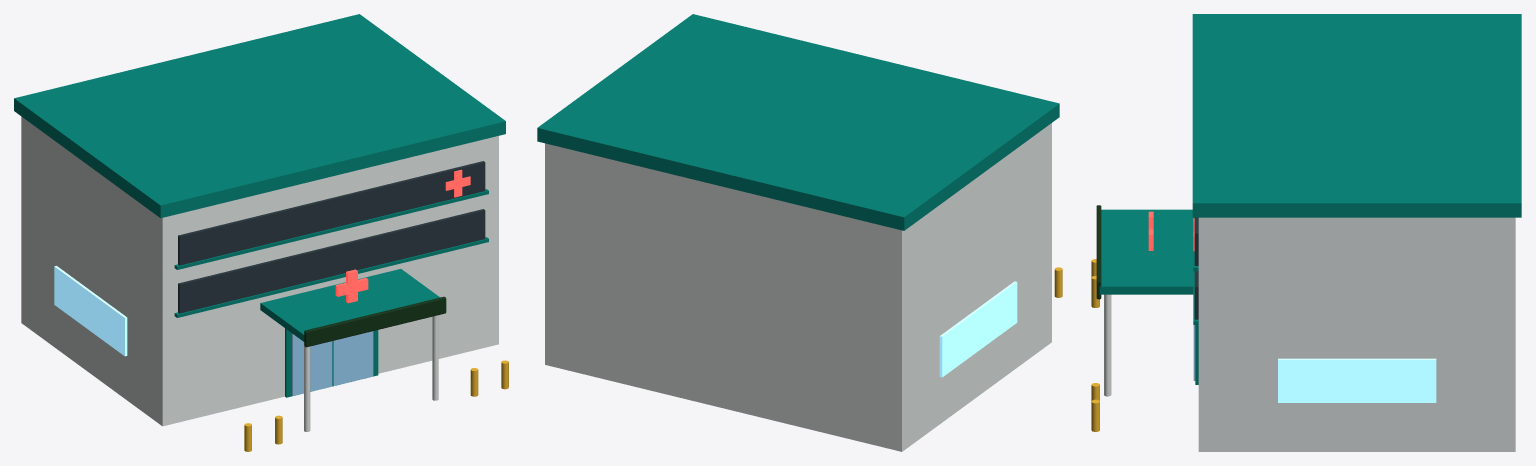
The model's file is foot_hospital.glb.
3 views of the same model, side by side, from view 1: azimuth 30°, elevation 25°; view 2: azimuth 150°, elevation 25°; view 3: azimuth 270°, elevation 25° (orthographic). The views are drawn at different scales.
Parts seen in each view (by area): view 1: FootHospital_body; view 2: FootHospital_body; view 3: FootHospital_body.
Part boxes in pixels (bbox=[...]): FootHospital_body: bbox=[14, 14, 508, 451]; FootHospital_body: bbox=[537, 14, 1062, 451]; FootHospital_body: bbox=[1091, 14, 1521, 451].
Size of the model in its own units: 11.3 by 7 by 10.86.
